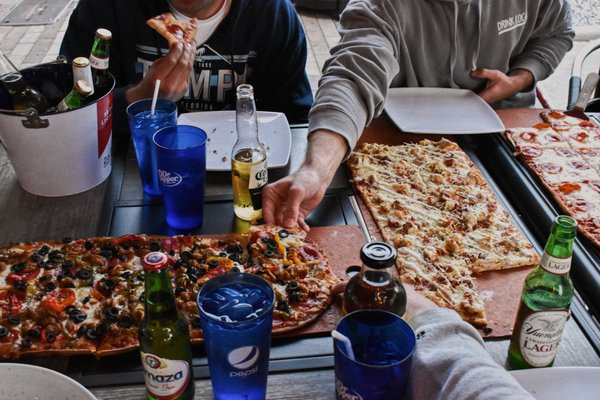pizza: (196, 270, 274, 399), (331, 309, 417, 397), (152, 124, 207, 233), (126, 97, 178, 196)
